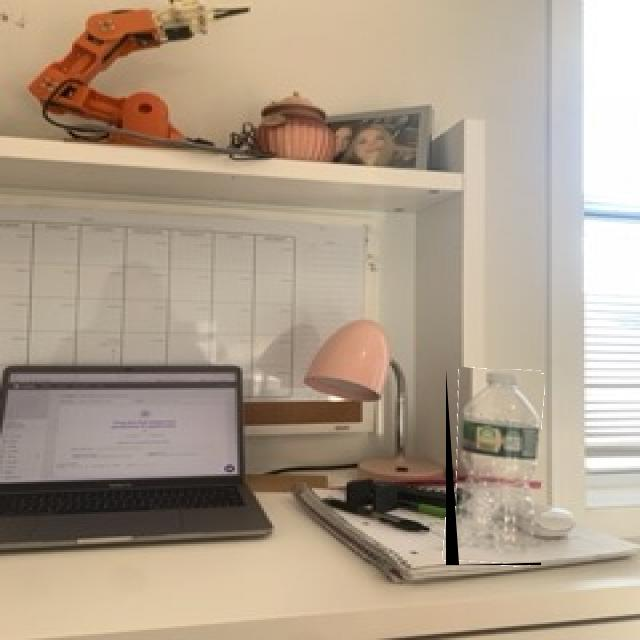water_bottle: (446, 369, 541, 565)
